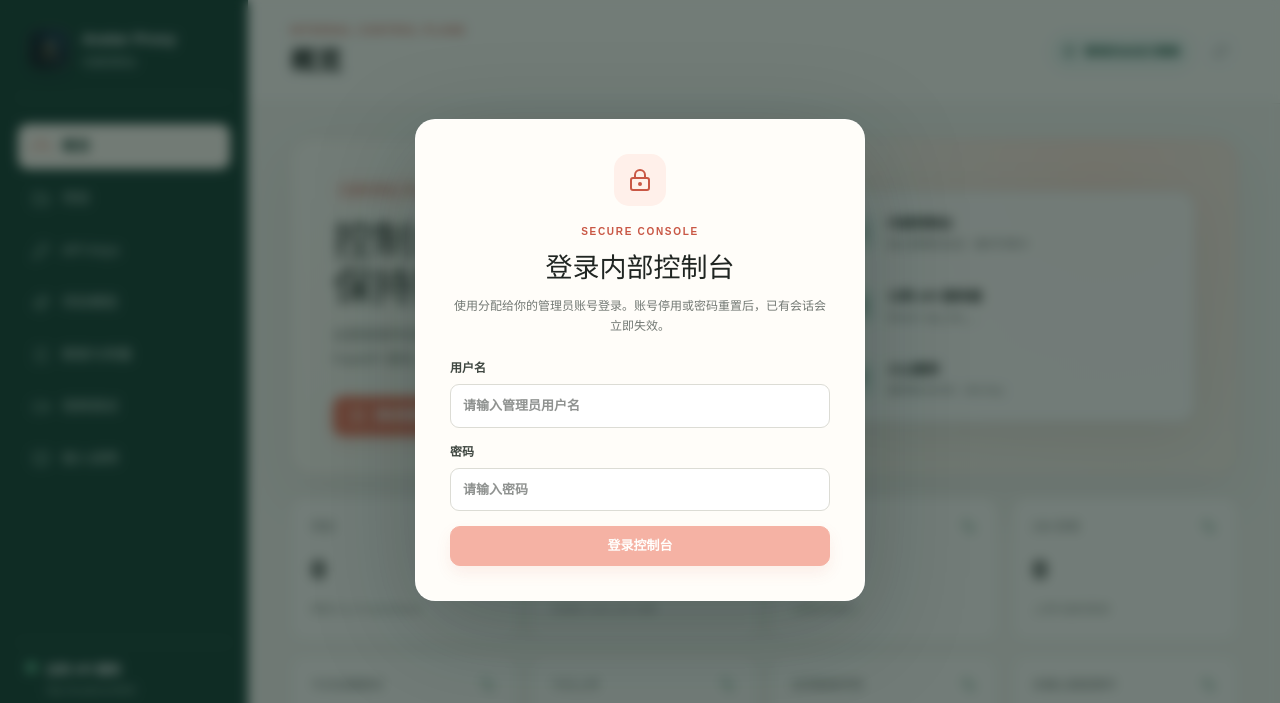
Test: 内部控制台 › 超级管理员登录必须完成TOTP二次验证
Expected: the heading "登录内部控制台" is shown, [546, 253, 734, 283]
Type "owner" into the field labelled "用户名".
click(640, 406); type("owner")  # box [450, 384, 830, 428]
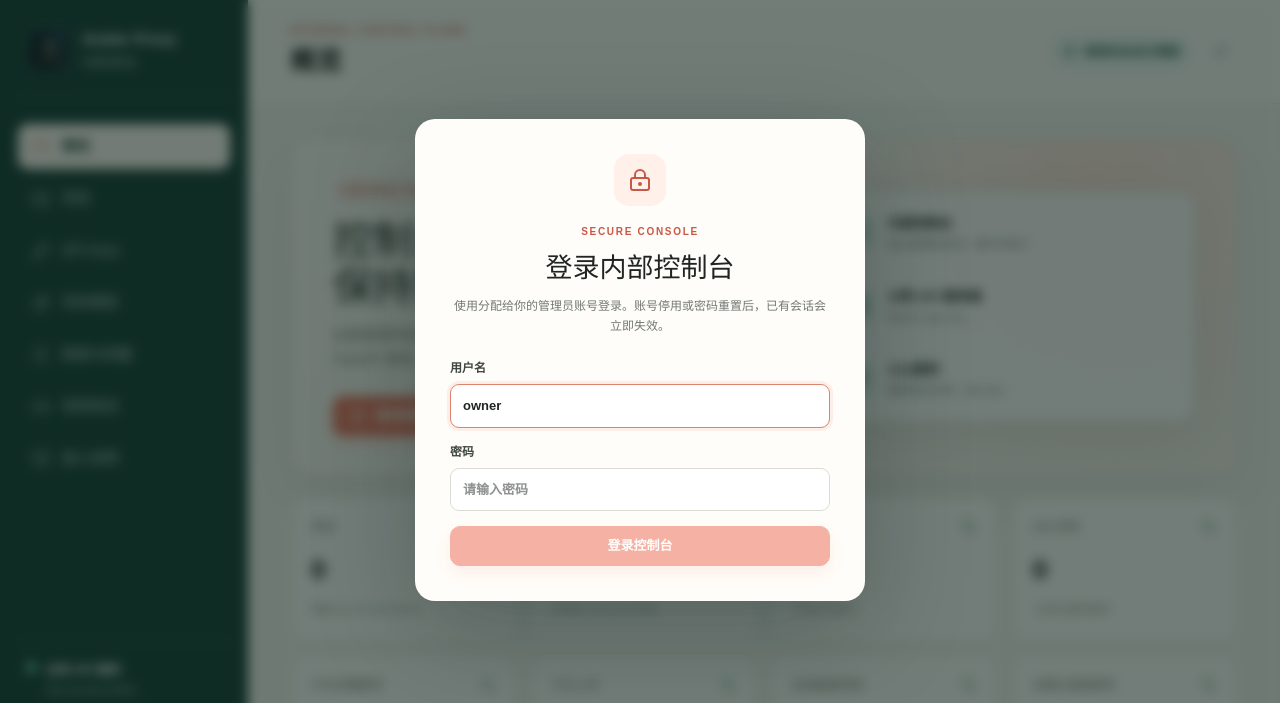
Type "correct-password" into the password field labelled "密码".
click(640, 489); type("correct-password")  # box [450, 468, 830, 511]
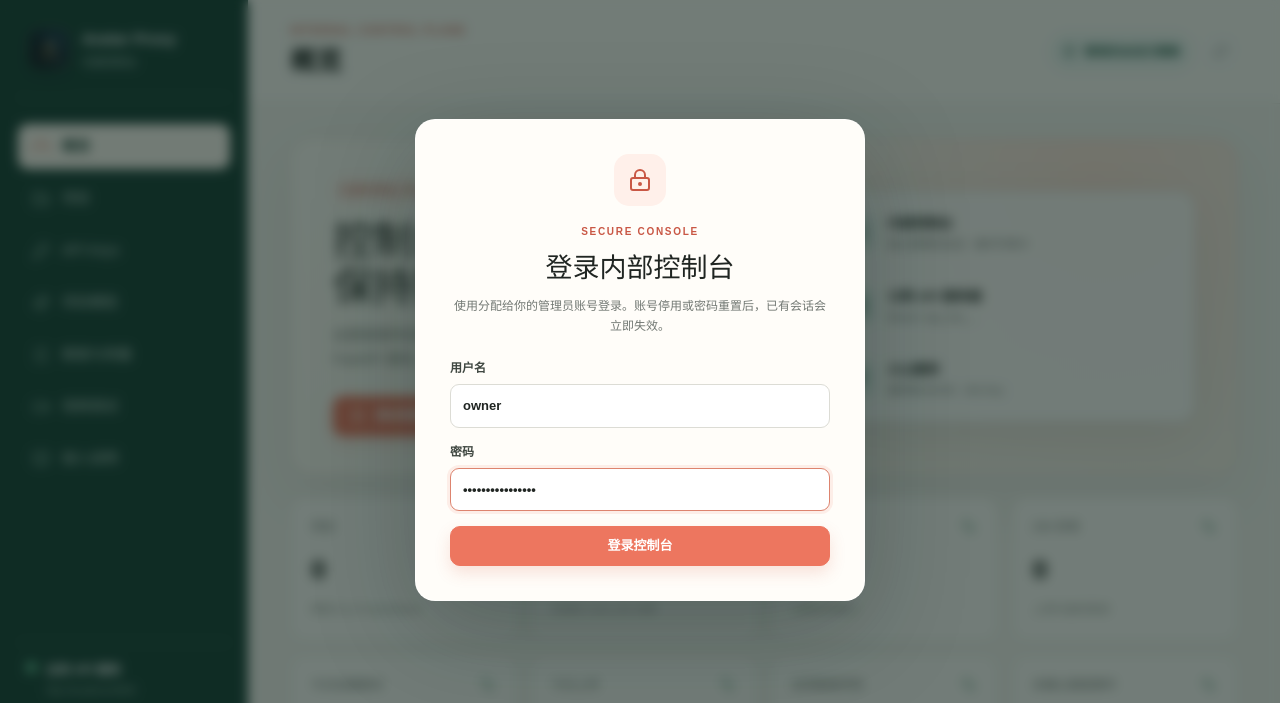
Click the button "登录控制台".
click(640, 546)  # box [450, 526, 830, 566]
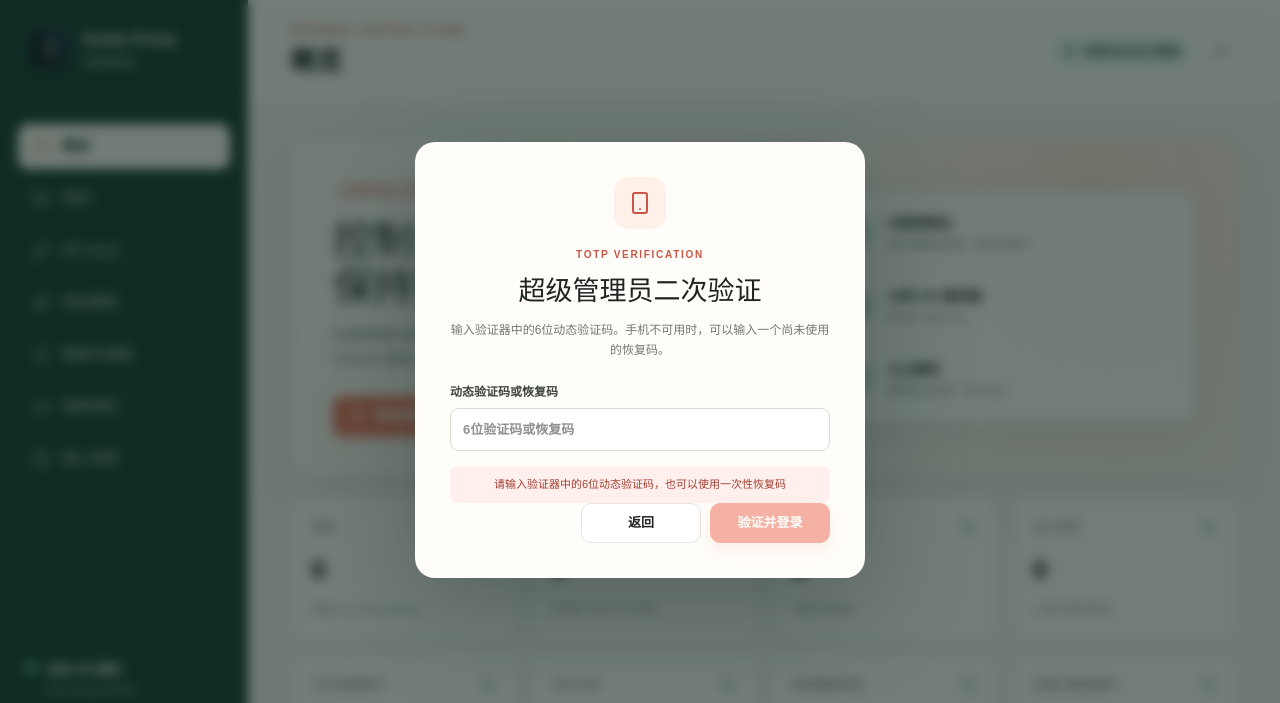
Expected: the heading "登录内部控制台" is gone
Expected: the heading "超级管理员二次验证" is shown, [518, 276, 762, 306]
Type "123456" into the field labelled "动态验证码或恢复码".
click(640, 429); type("123456")  # box [450, 408, 830, 451]
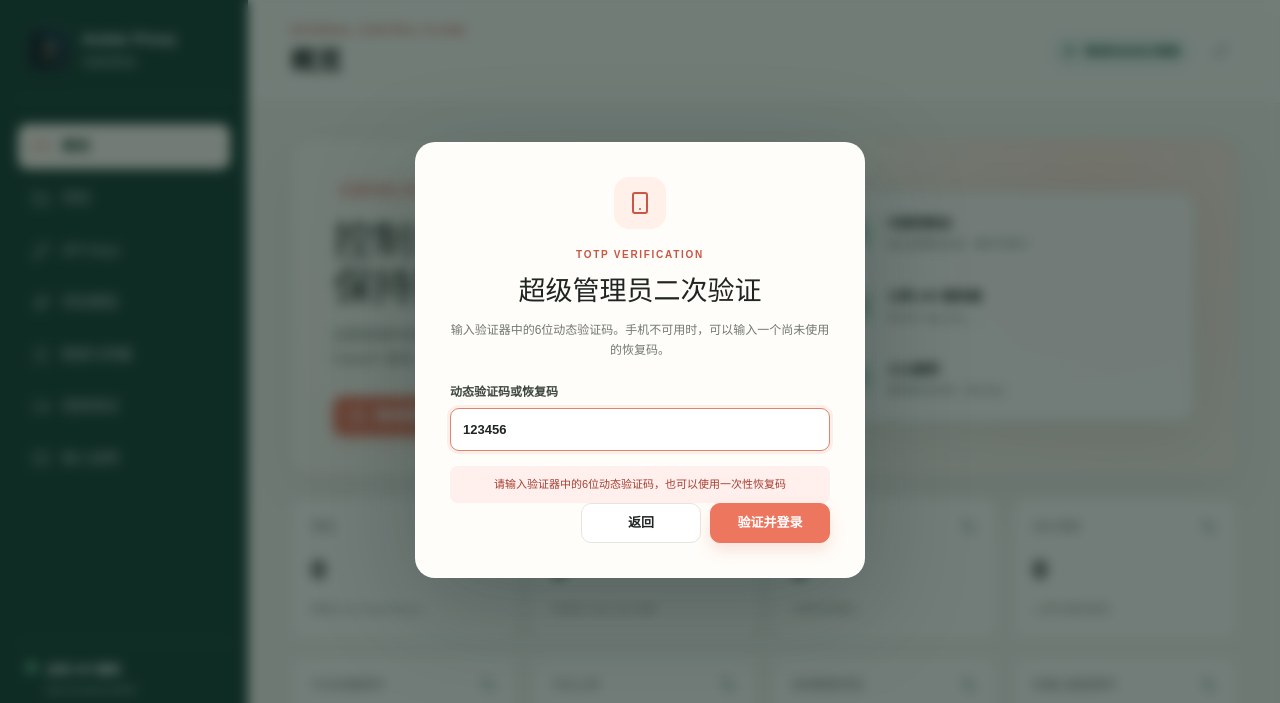
Click the button "验证并登录".
click(770, 522)  # box [710, 502, 830, 542]
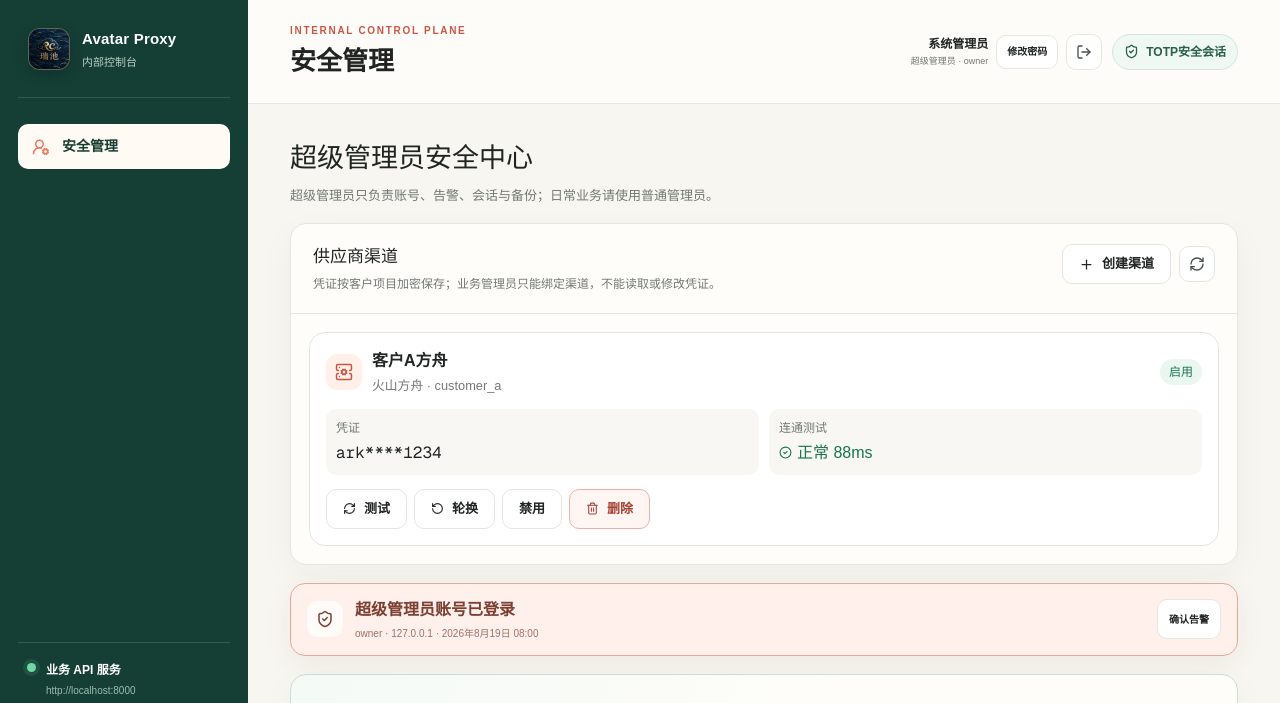
Expected: the heading "超级管理员安全中心" is shown, [290, 143, 533, 173]
Expected: the text "超级管理员账号已登录" is shown, [355, 601, 515, 618]
